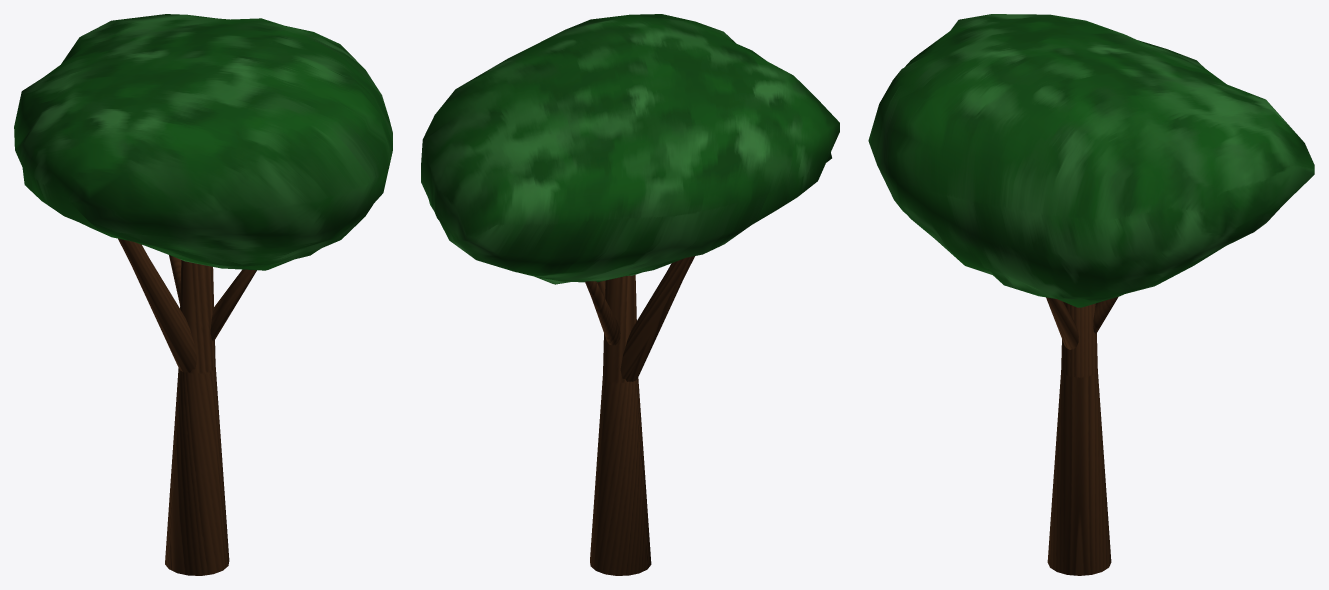
File: tree.fbx
3 renders of one model, left to right at view 1: azimuth 30°, elevation 25°; view 2: azimuth 150°, elevation 25°; view 3: azimuth 270°, elevation 25°, orthographic. The views are drawn at different scales.
Visible parts, largest first — view 1: Arbre; view 2: Arbre; view 3: Arbre.
Boxes of the visible parts, left/top/right/bottom form: Arbre: left=14, top=14, right=392, bottom=575; Arbre: left=421, top=14, right=839, bottom=575; Arbre: left=868, top=14, right=1314, bottom=575.
Size of the model in its own units: 472 by 662 by 523.
Materials: 1 (1 with a texture image).
